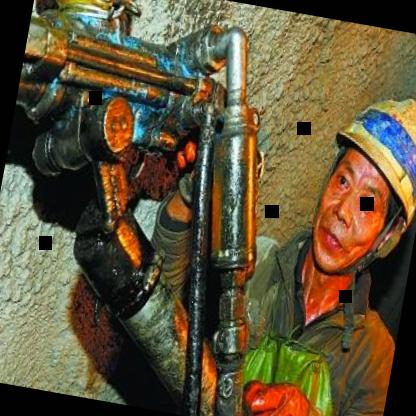helmet: (298, 72, 416, 296)
